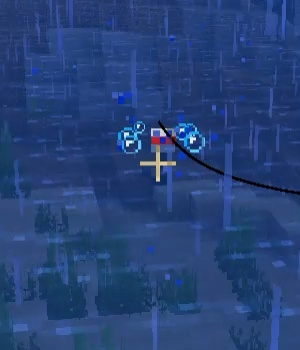up: (140, 121, 180, 186)
